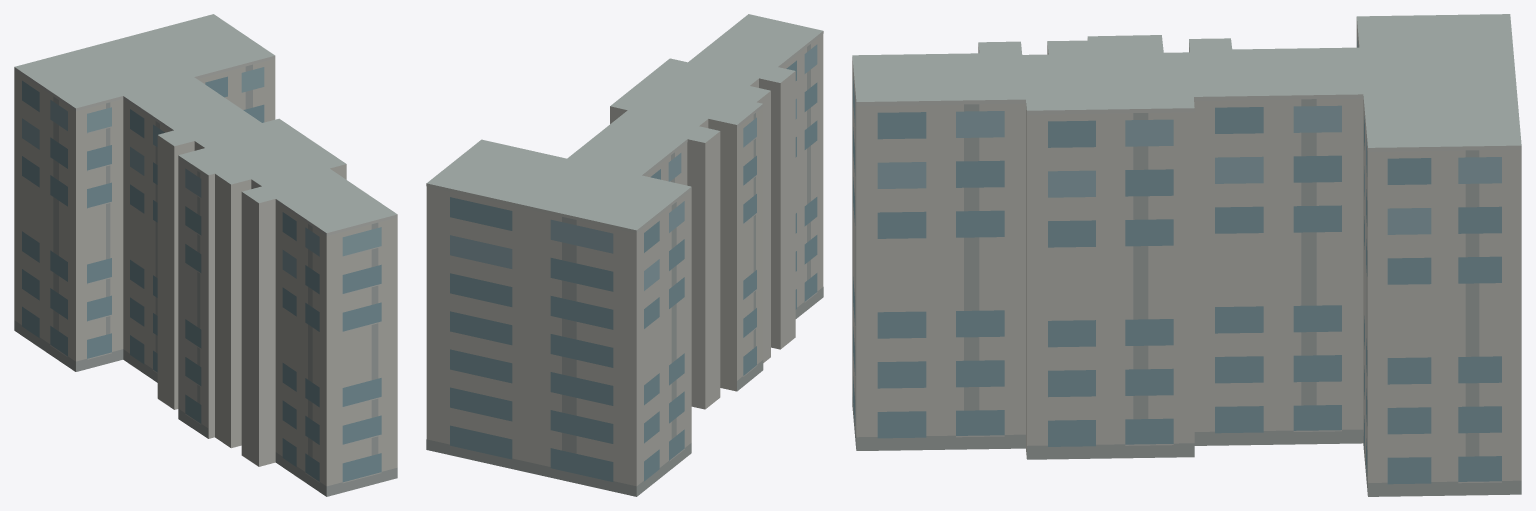
Rendered from survey-upis-33023931.glb.
3 renders of one model, left to right at view 1: azimuth 30°, elevation 25°; view 2: azimuth 150°, elevation 25°; view 3: azimuth 270°, elevation 25°, orthographic. The views are drawn at different scales.
Parts seen in each view (by area): view 1: survey-upis-33023931.tmp; view 2: survey-upis-33023931.tmp; view 3: survey-upis-33023931.tmp.
Boxes of the visible parts, <box> form: survey-upis-33023931.tmp: <box>14,14,397,496</box>; survey-upis-33023931.tmp: <box>426,14,823,496</box>; survey-upis-33023931.tmp: <box>852,14,1521,496</box>.
Size of the model in its own units: 17.58 by 21.35 by 37.12.
